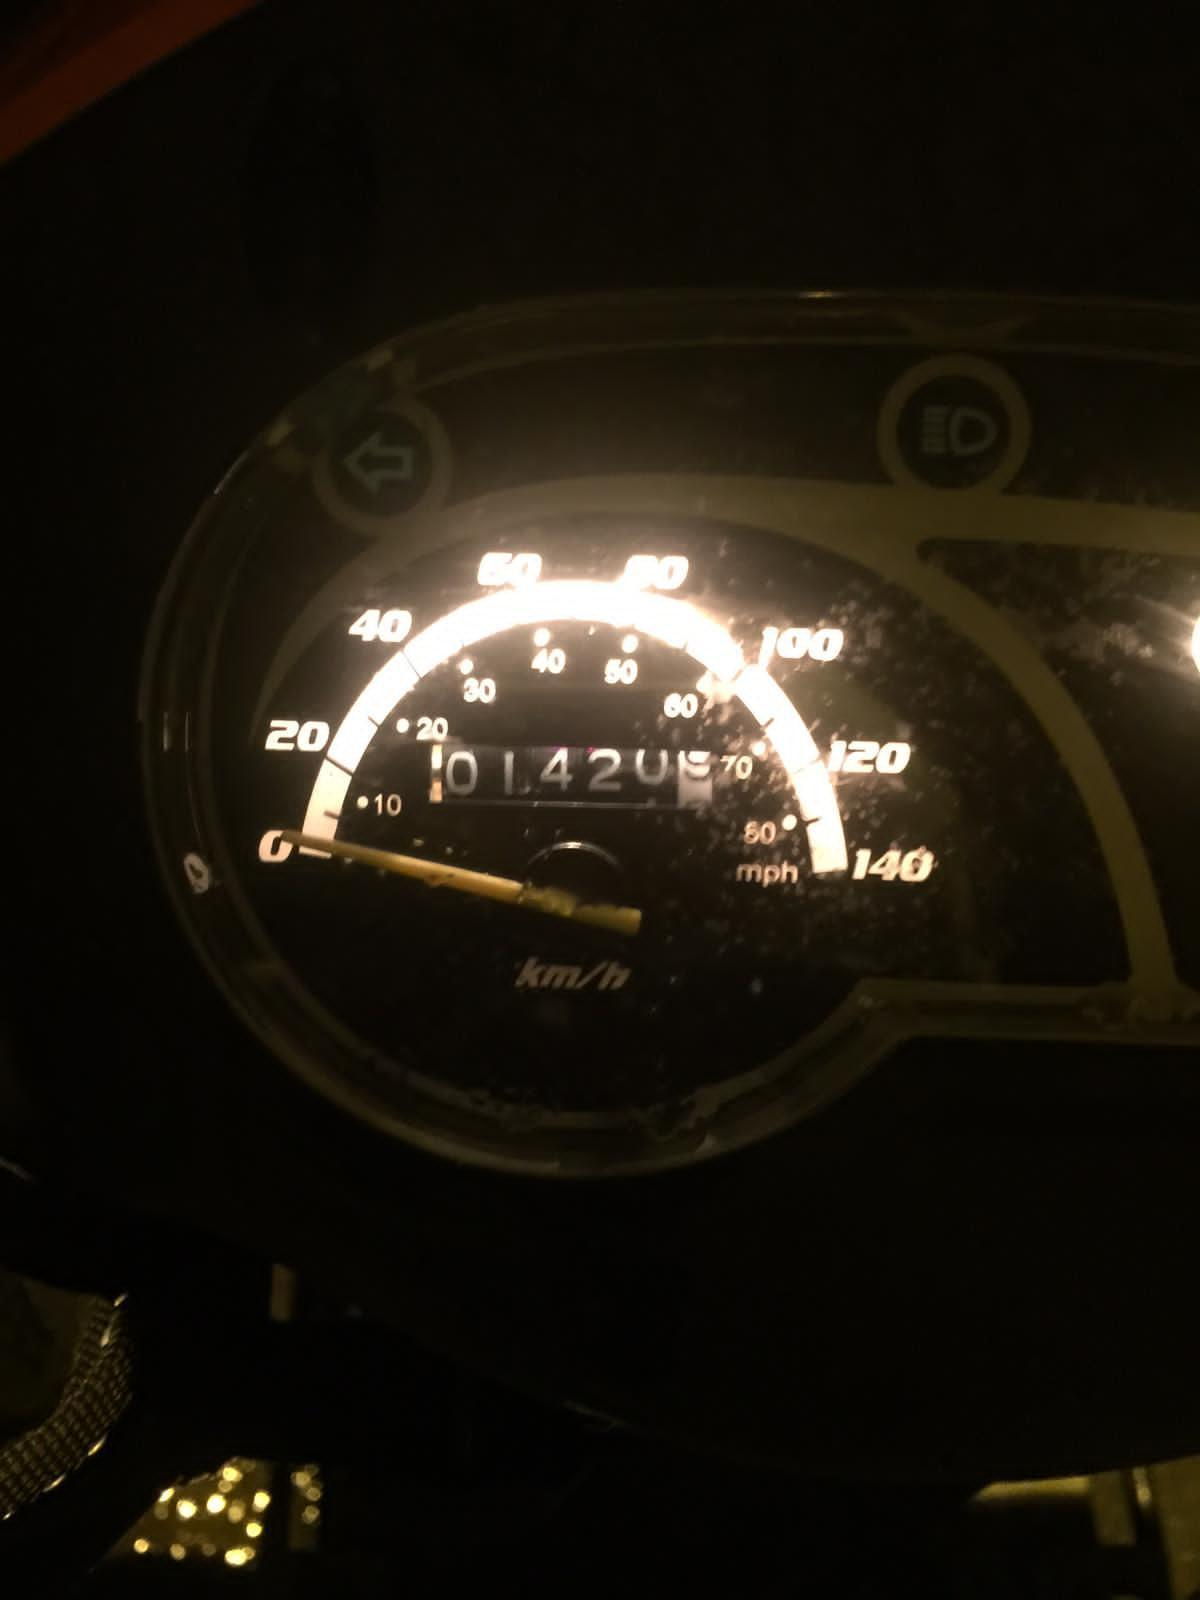0: (444, 750, 478, 797), (633, 740, 668, 785)
1: (502, 750, 514, 796)
2: (586, 747, 621, 792)
4: (538, 745, 572, 791)
9: (684, 743, 712, 781)
odometer: (425, 738, 715, 813)
